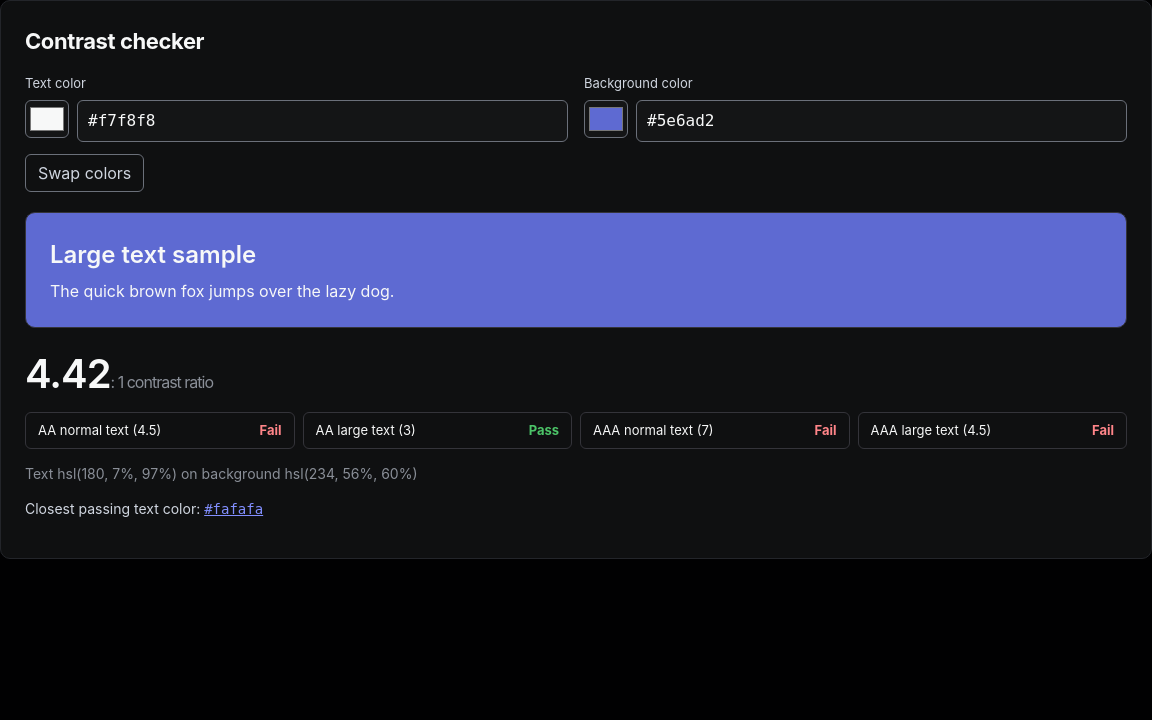
Test: ContrastChecker › computes 21:1 for black on white
Replace the text in the field labelled "Text color" with "#000000": {"x": 322, "y": 120} [77,100,568,142]
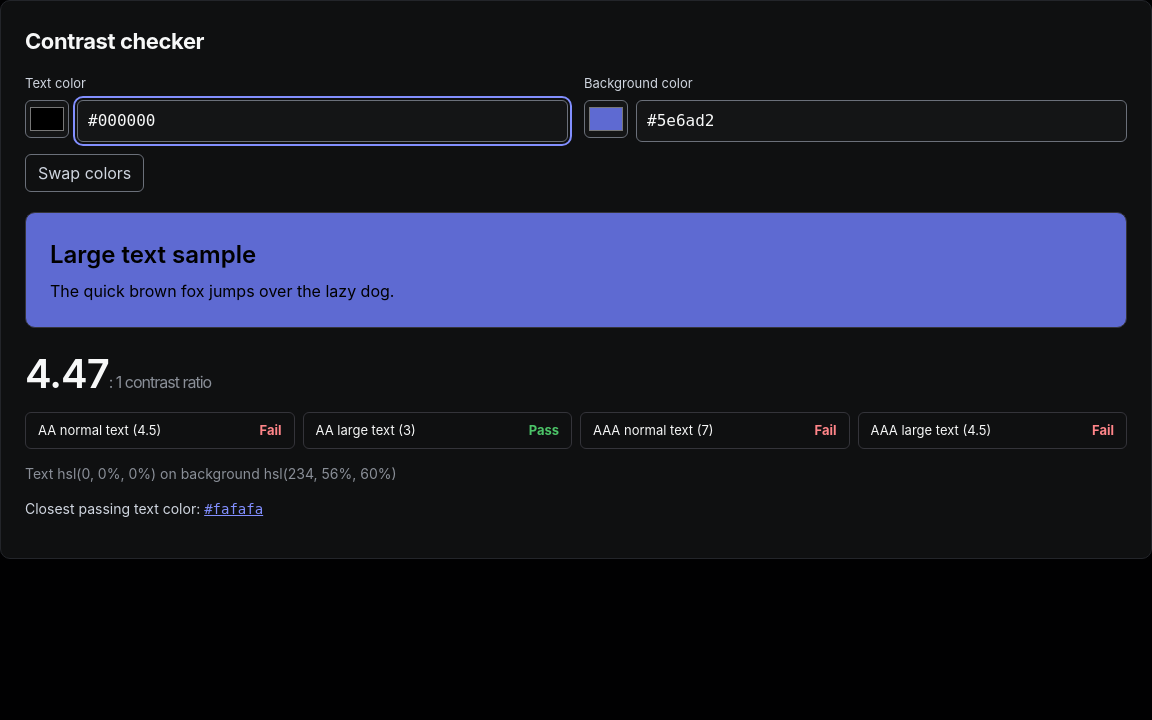
Replace the text in the field labelled "Background color" with "#ffffff": {"x": 882, "y": 120} [636,100,1127,142]
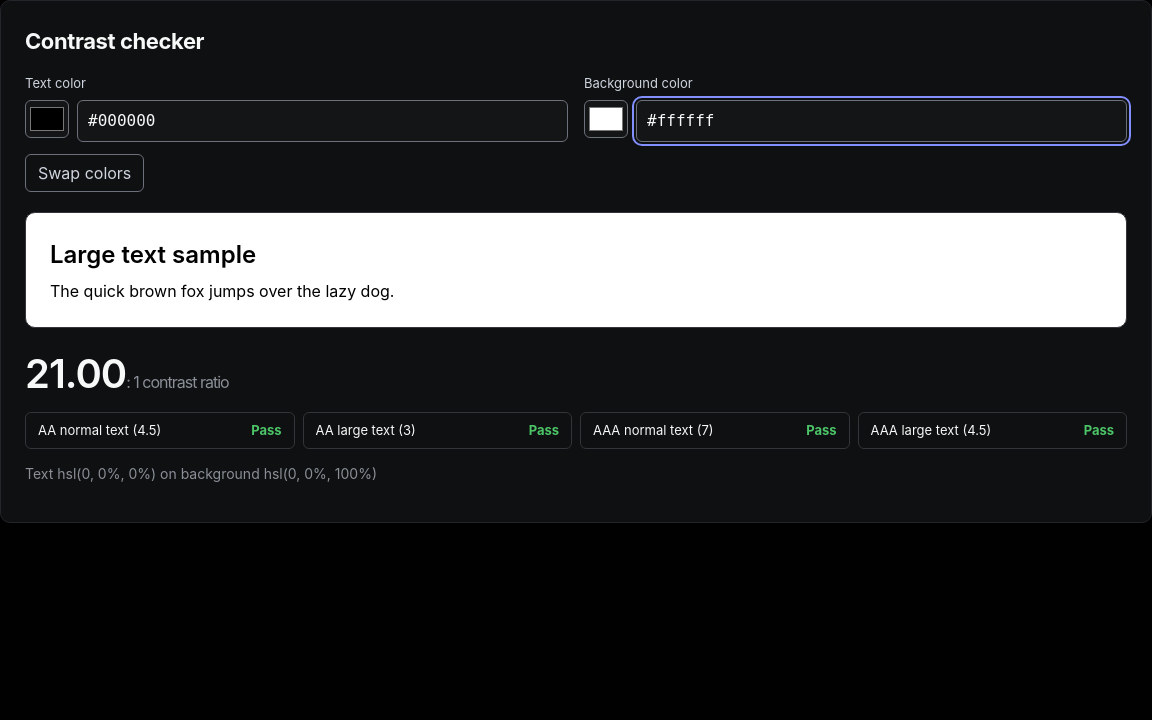
Expected: the text with test id "ratio" reads "21.00", [25,348,126,398]
Expected: the text "Pass" is shown 4 times, [251,420,282,440]; [529,420,559,440]; [806,420,836,440]; [1084,420,1114,440]
